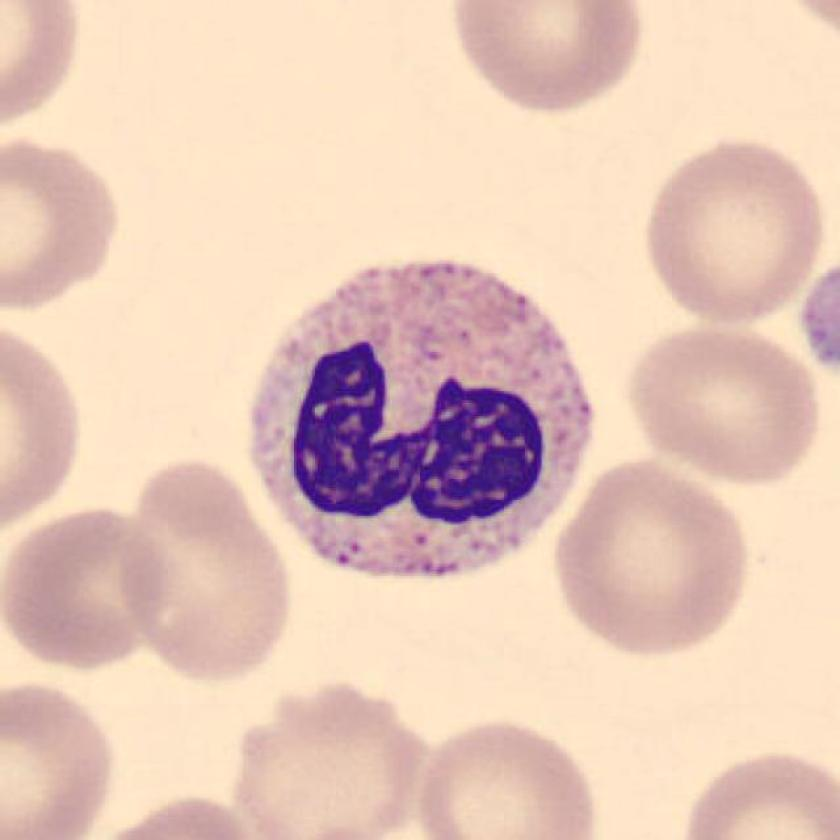neutrophil: (249, 261, 593, 578)
